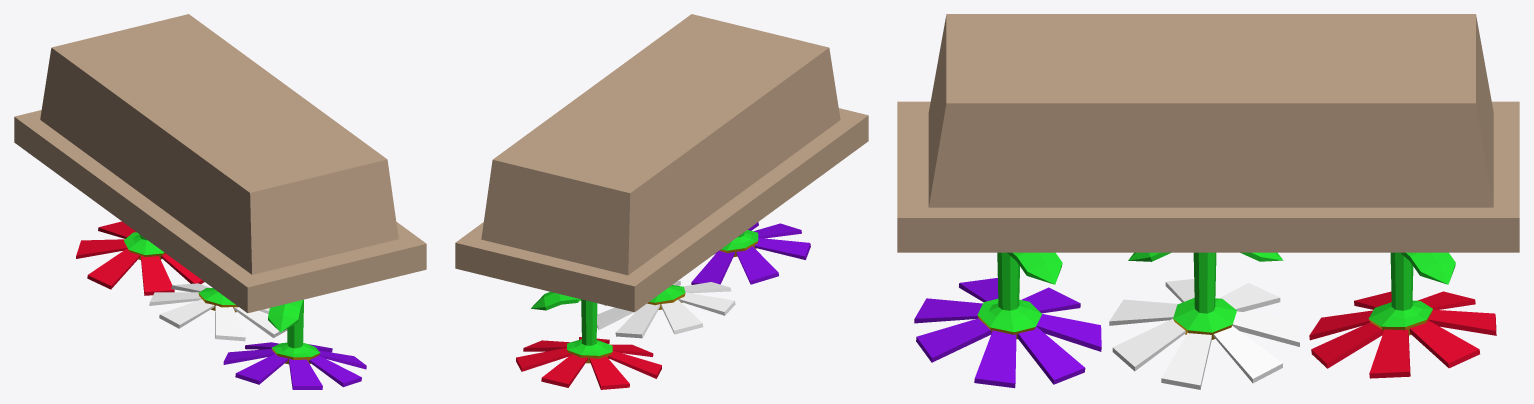
Rendered from flowers_pot_v2.fbx.
The picture shows the model from 3 angles, left to right: view 1: azimuth 30°, elevation 25°; view 2: azimuth 150°, elevation 25°; view 3: azimuth 270°, elevation 25°; orthographic projection. The views are drawn at different scales.
Parts seen in each view (by area): view 1: Cube.001; view 2: Cube.001; view 3: Cube.001.
Part boxes in pixels (bbox=[...]): Cube.001: bbox=[14, 14, 426, 389]; Cube.001: bbox=[455, 14, 868, 389]; Cube.001: bbox=[897, 14, 1519, 389].
Size of the model in its own units: 1770 by 2071 by 3996.
